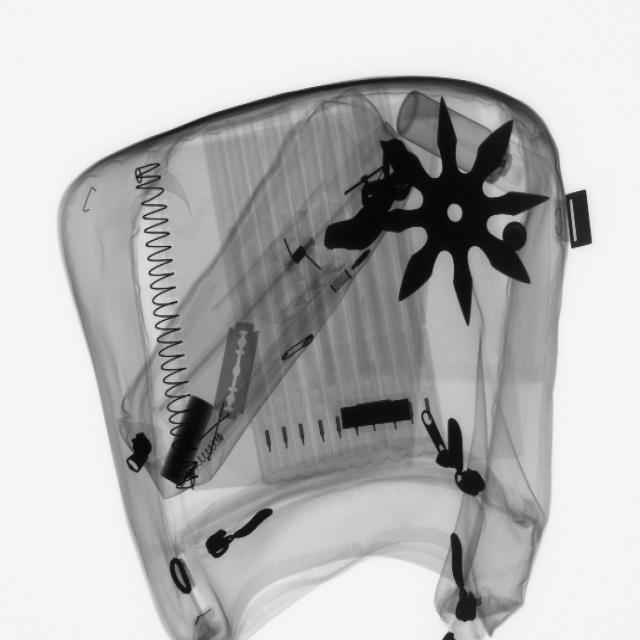BLADE: (213, 317, 265, 428)
SHURIKEN: (358, 97, 549, 329)
